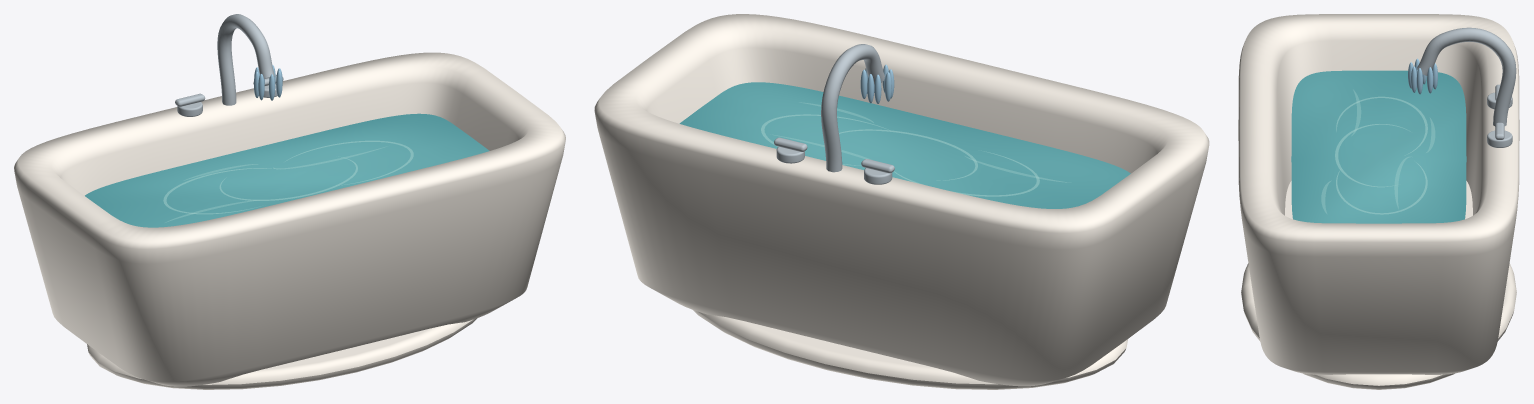
File: bathroomBathAni.glb
3 views of the same model, side by side, from view 1: azimuth 30°, elevation 25°; view 2: azimuth 150°, elevation 25°; view 3: azimuth 270°, elevation 25° (orthographic). The views are drawn at different scales.
Parts seen in each view (by area): view 1: Oval bath shell, Recessed bath water, Recessed bath plinth, Bath gooseneck faucet; view 2: Oval bath shell, Recessed bath water, Recessed bath plinth, Bath gooseneck faucet; view 3: Oval bath shell, Recessed bath water, Recessed bath plinth, Bath gooseneck faucet, Bath tap base.001, Bathroom wash ripple 3, Bathroom wash ripple 1, Bathroom wash ripple 2.
Boxes of the visible parts, box(x1,y1,x2,y2) form: Oval bath shell: box(14, 52, 565, 386); Recessed bath water: box(85, 113, 489, 227); Recessed bath plinth: box(87, 318, 477, 389); Bath gooseneck faucet: box(217, 14, 274, 105); Oval bath shell: box(594, 14, 1209, 386); Recessed bath water: box(679, 82, 1130, 208); Recessed bath plinth: box(693, 310, 1127, 389); Bath gooseneck faucet: box(821, 44, 884, 172); Oval bath shell: box(1238, 14, 1519, 374); Recessed bath water: box(1291, 70, 1466, 223); Recessed bath plinth: box(1241, 263, 1516, 389); Bath gooseneck faucet: box(1417, 27, 1516, 126); Bath tap base.001: box(1487, 130, 1512, 147); Bathroom wash ripple 3: box(1336, 163, 1427, 214); Bathroom wash ripple 1: box(1336, 97, 1427, 153); Bathroom wash ripple 2: box(1335, 124, 1406, 186).
Bounding box in the file's own units: 2 × 1.13 × 1.06.
